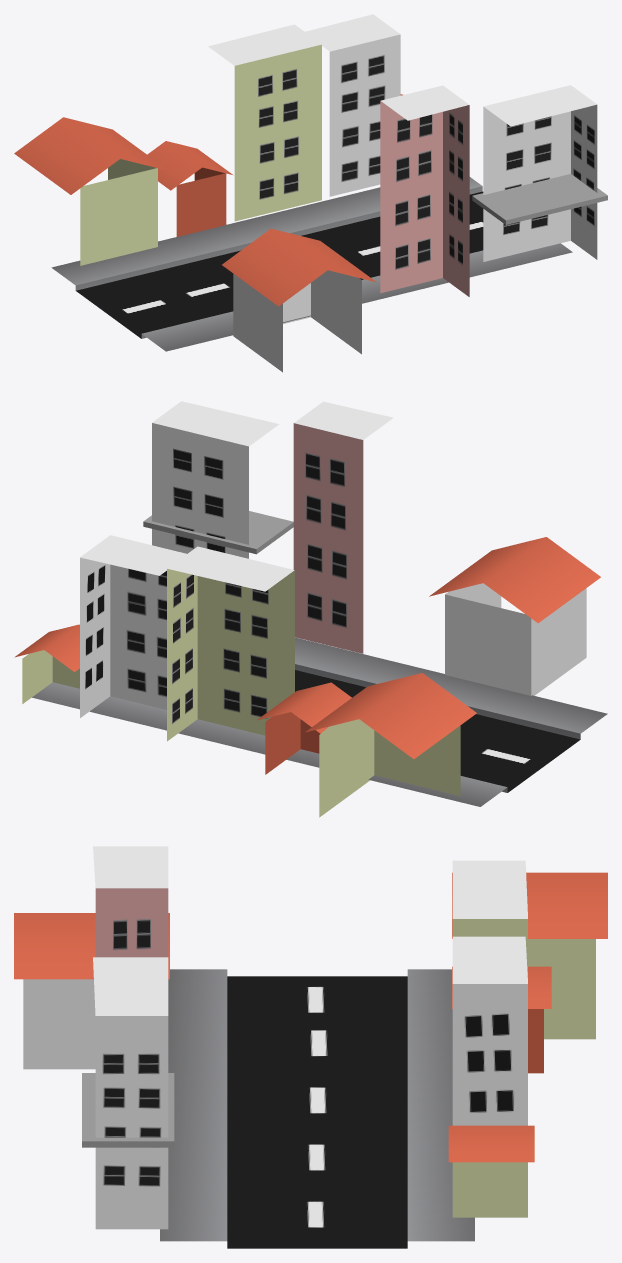
Rendered from tile1.fbx.
3 views of the same model, one above another, from view 1: azimuth 30°, elevation 25°; view 2: azimuth 150°, elevation 25°; view 3: azimuth 270°, elevation 25° (orthographic). The views are drawn at different scales.
Parts seen in each view (by area): view 1: Tile; view 2: Tile; view 3: Tile.
Boxes of the visible parts, left/top/right/bottom form: Tile: left=14, top=14, right=607, bottom=372; Tile: left=14, top=401, right=607, bottom=817; Tile: left=14, top=846, right=607, bottom=1248.
Size of the model in its own units: 132 by 61.15 by 119.
